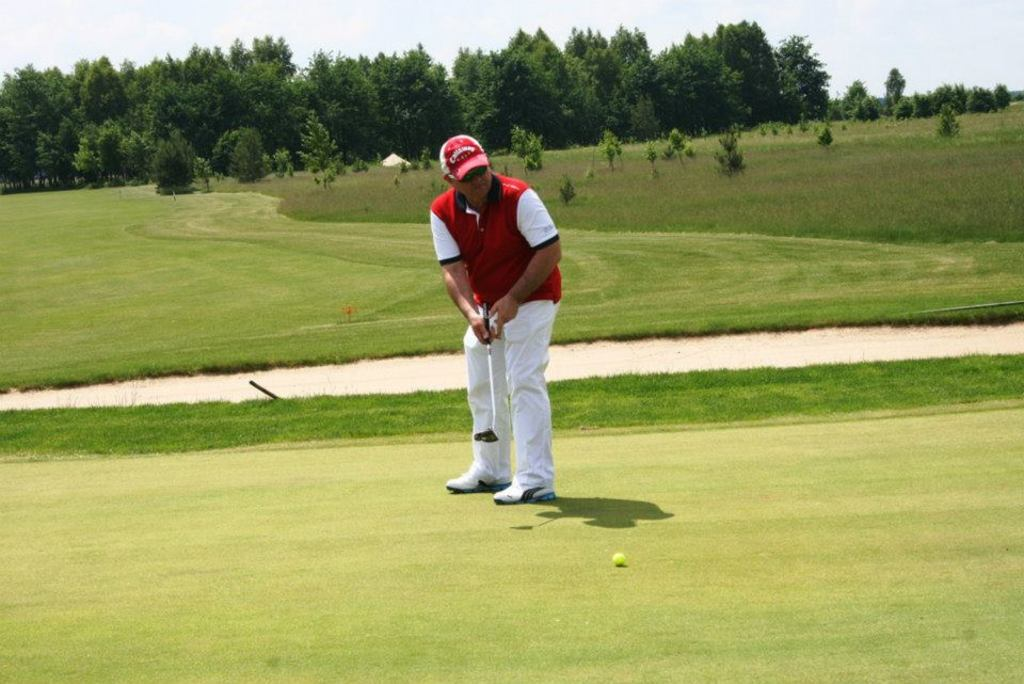Tree: (0, 16, 1024, 193)
